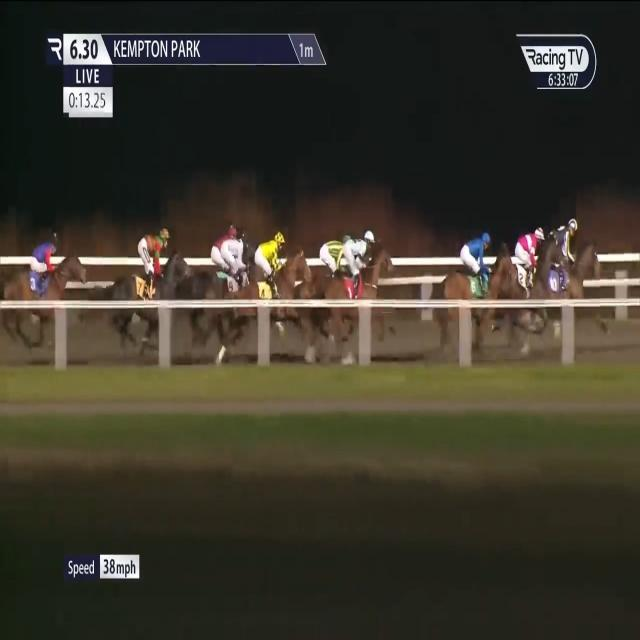horses-racing: (2, 226, 99, 339), (223, 225, 313, 333), (106, 216, 178, 349), (441, 223, 504, 351), (175, 220, 237, 338), (536, 205, 598, 321), (332, 222, 398, 324), (209, 222, 257, 344), (506, 216, 553, 316), (307, 223, 354, 317)
